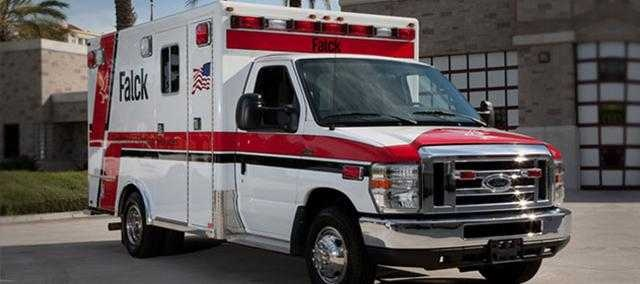Ambulance: (68, 20, 555, 256)
